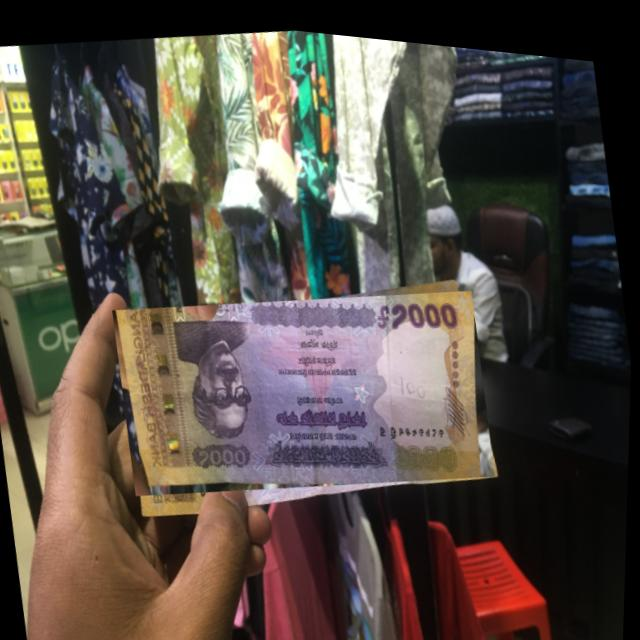Taka: (111, 251, 502, 522)
